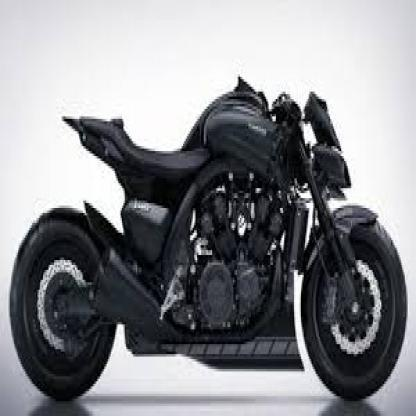Motorcycle: (8, 63, 407, 403)
